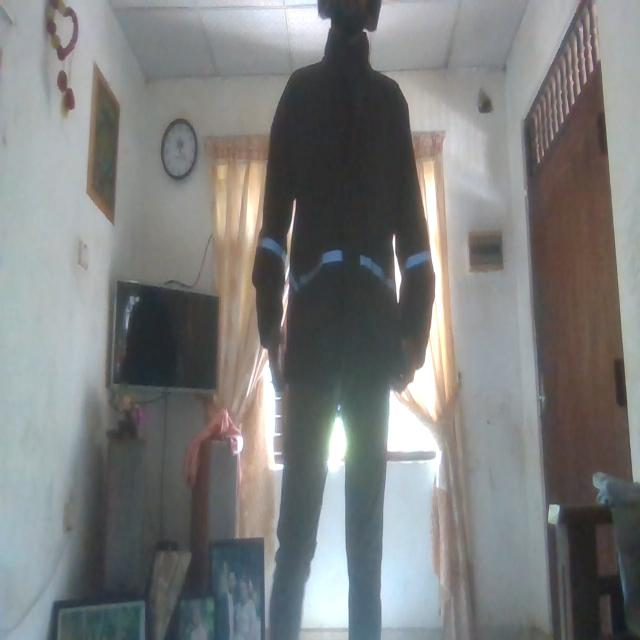Helmet_Wearer: (308, 0, 389, 58)
Jacket_Wearer: (252, 52, 434, 407)
Person: (252, 2, 434, 640)
